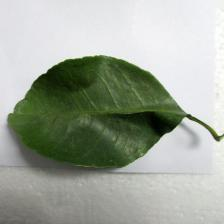healthy: (12, 63, 187, 166)
